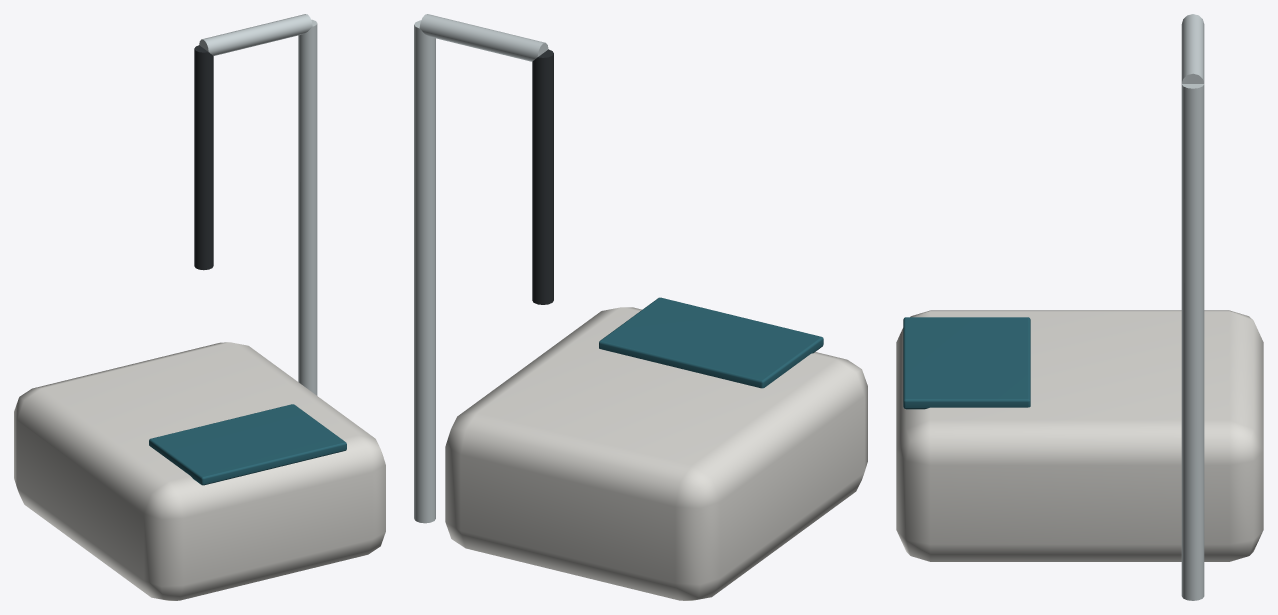
Rendered from PH_Meter.fbx.
The picture shows the model from 3 angles, left to right: view 1: azimuth 30°, elevation 25°; view 2: azimuth 150°, elevation 25°; view 3: azimuth 270°, elevation 25°; orthographic projection. The views are drawn at different scales.
Visible parts, largest first — view 1: PH_Meter_White, PH_Meter_Steel, PH_Meter_Screen, PH_Meter_Rubber; view 2: PH_Meter_White, PH_Meter_Steel, PH_Meter_Screen, PH_Meter_Rubber; view 3: PH_Meter_White, PH_Meter_Steel, PH_Meter_Screen.
Part boxes in pixels (x1,y1,x2,y2): PH_Meter_White: [14, 342, 385, 600]; PH_Meter_Steel: [199, 14, 317, 395]; PH_Meter_Screen: [149, 404, 346, 485]; PH_Meter_Rubber: [194, 45, 213, 270]; PH_Meter_White: [445, 307, 867, 600]; PH_Meter_Steel: [414, 14, 548, 523]; PH_Meter_Screen: [599, 297, 823, 388]; PH_Meter_Rubber: [532, 49, 553, 304]; PH_Meter_White: [896, 310, 1263, 561]; PH_Meter_Steel: [1181, 14, 1204, 600]; PH_Meter_Screen: [903, 317, 1030, 409].
Size of the model in its own units: 27.3 by 40.8 by 26.
